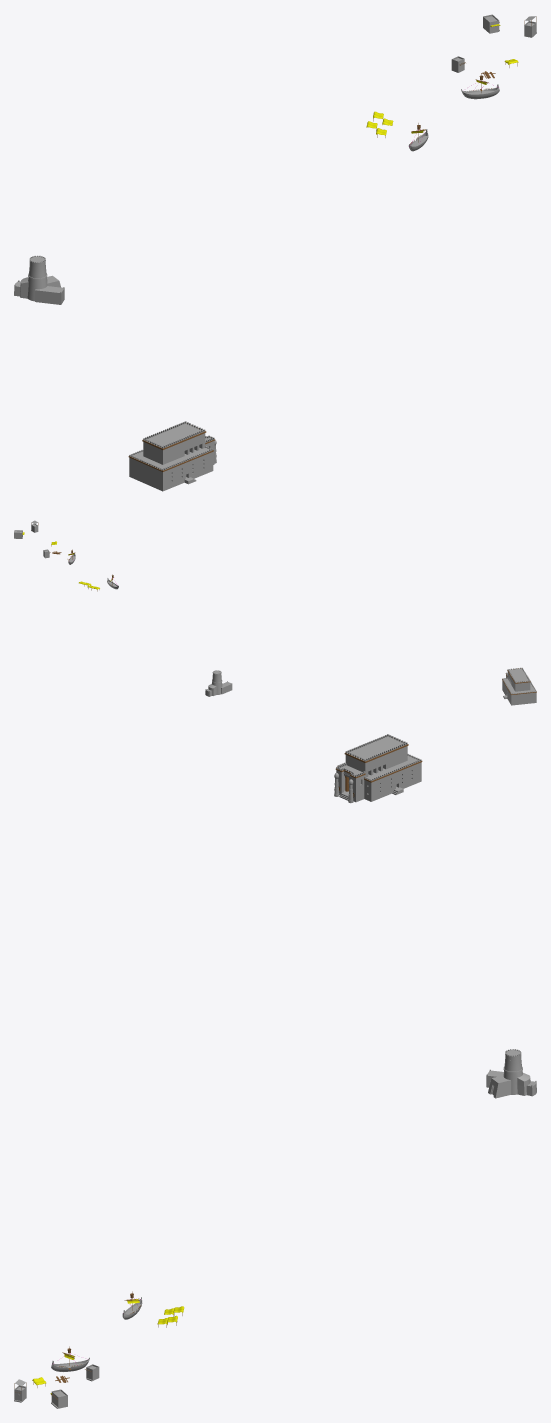
The model's file is Ref3.fbx.
3 views of the same model, one above another, from view 1: azimuth 90°, elevation 25°; view 2: azimuth 150°, elevation 25°; view 3: azimuth 270°, elevation 25° (orthographic). The views are drawn at different scales.
Visible parts, largest first — view 1: Templo, TorreLejana; view 2: Templo, TorreLejana; view 3: Templo, TorreLejana.
Boxes of the visible parts, x1,y1,x2,y2 form: Templo: (128, 421, 215, 491); TorreLejana: (14, 255, 64, 304); Templo: (502, 667, 536, 705); TorreLejana: (205, 670, 232, 696); Templo: (335, 734, 422, 802); TorreLejana: (486, 1049, 536, 1098).
Bounding box in the file's own units: 9616937 × 1170564 × 3834235.
